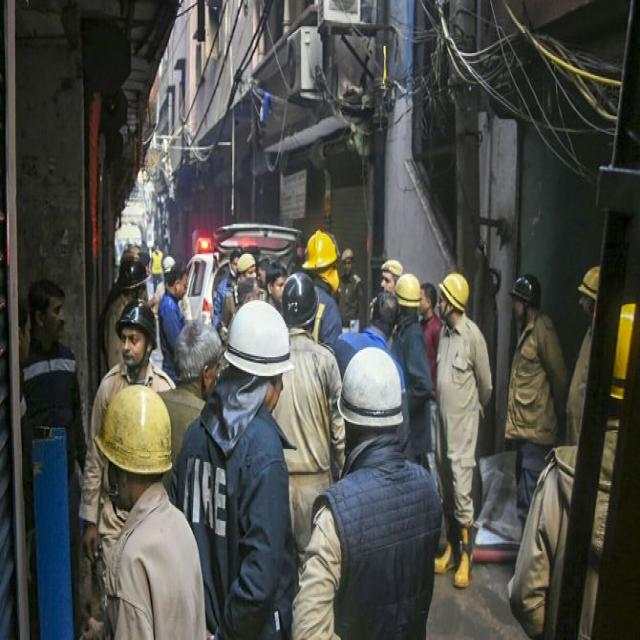Safety-Helmet: (95, 382, 174, 476), (337, 346, 405, 429), (224, 301, 293, 379), (302, 230, 339, 274), (438, 270, 471, 311), (116, 298, 154, 333), (509, 270, 544, 307), (396, 271, 422, 307), (236, 251, 257, 274), (163, 256, 176, 276)
